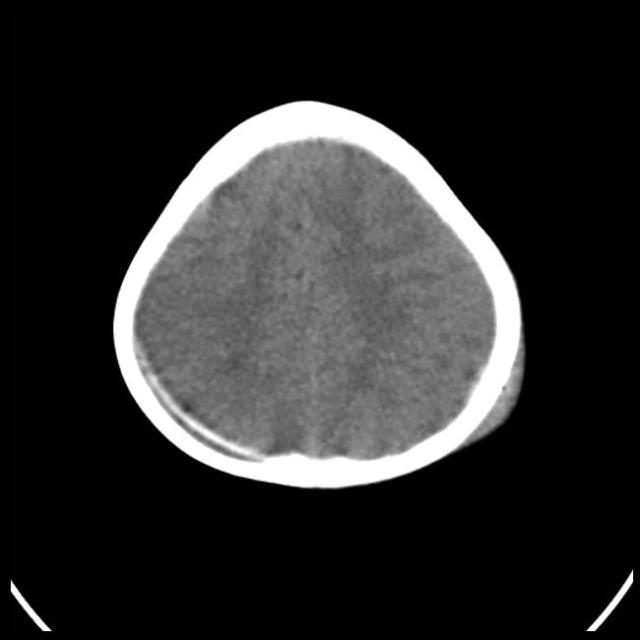lesion: (109, 96, 530, 492)
